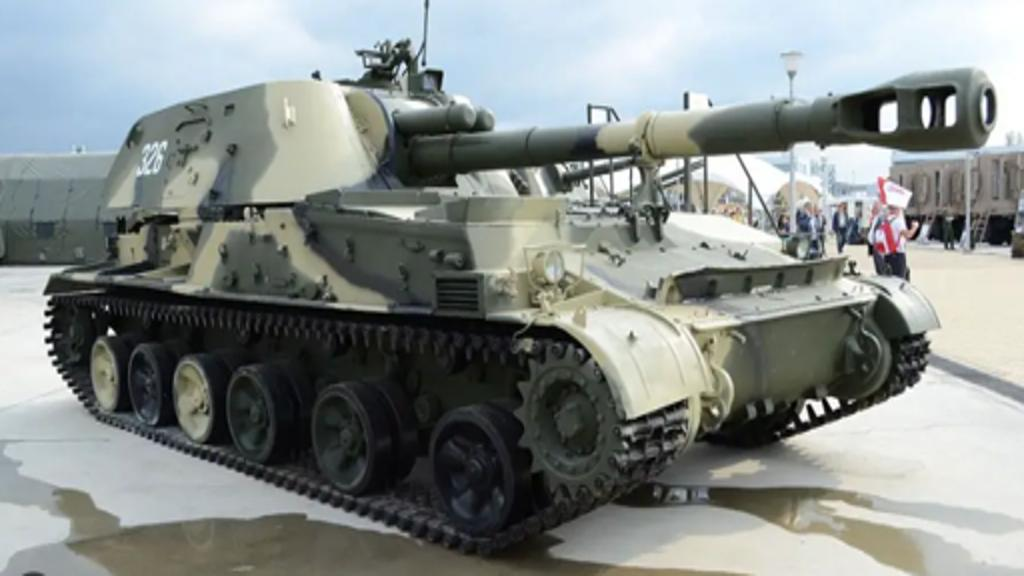ART: (28, 56, 998, 558)
